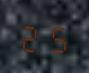five: (44, 19, 68, 53)
two: (19, 19, 43, 52)
